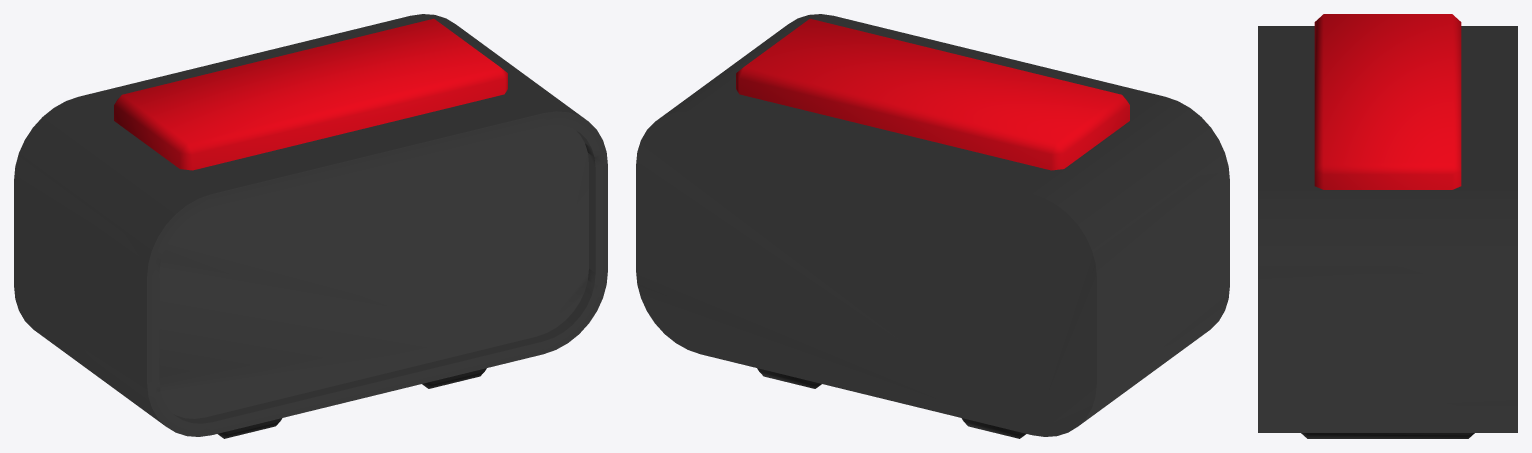
File: clock.fbx
3 views of the same model, side by side, from view 1: azimuth 30°, elevation 25°; view 2: azimuth 150°, elevation 25°; view 3: azimuth 270°, elevation 25° (orthographic). The views are drawn at different scales.
Parts seen in each view (by area): view 1: Cube, Cube.002, Cube.001; view 2: Cube, Cube.002, Cube.001; view 3: Cube, Cube.002, Cube.001.
Boxes of the visible parts, <box> form: Cube: <box>14,14,607,436</box>; Cube.002: <box>114,18,507,170</box>; Cube.001: <box>218,368,486,438</box>; Cube: <box>636,14,1229,436</box>; Cube.002: <box>736,18,1129,170</box>; Cube.001: <box>757,368,1025,438</box>; Cube: <box>1258,26,1517,432</box>; Cube.002: <box>1314,14,1461,189</box>; Cube.001: <box>1301,433,1474,438</box>.
Size of the model in its own units: 20 by 12.31 by 10.
